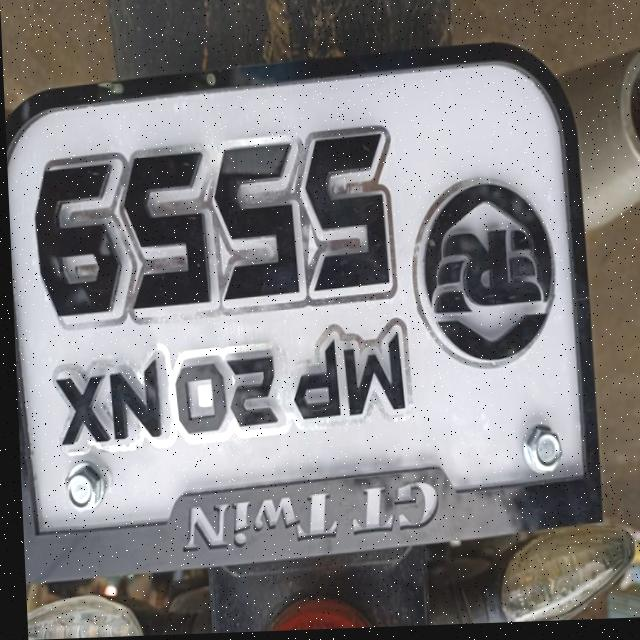plate: (3, 46, 601, 584)
